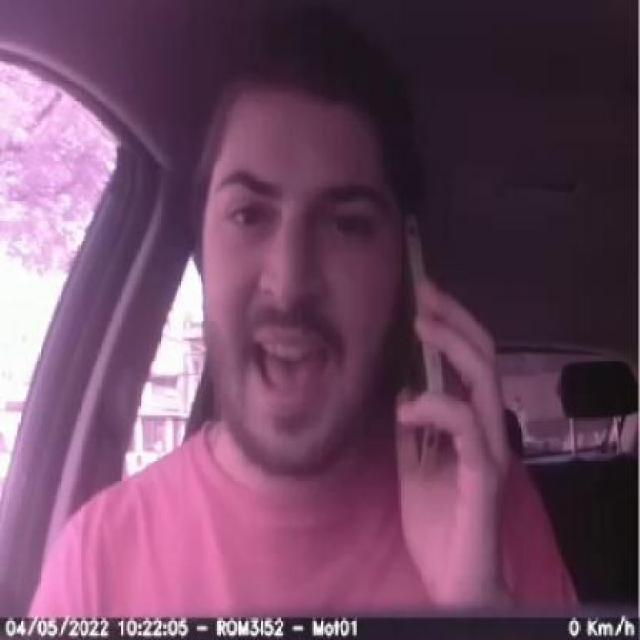using_phone: (303, 208, 500, 526)
